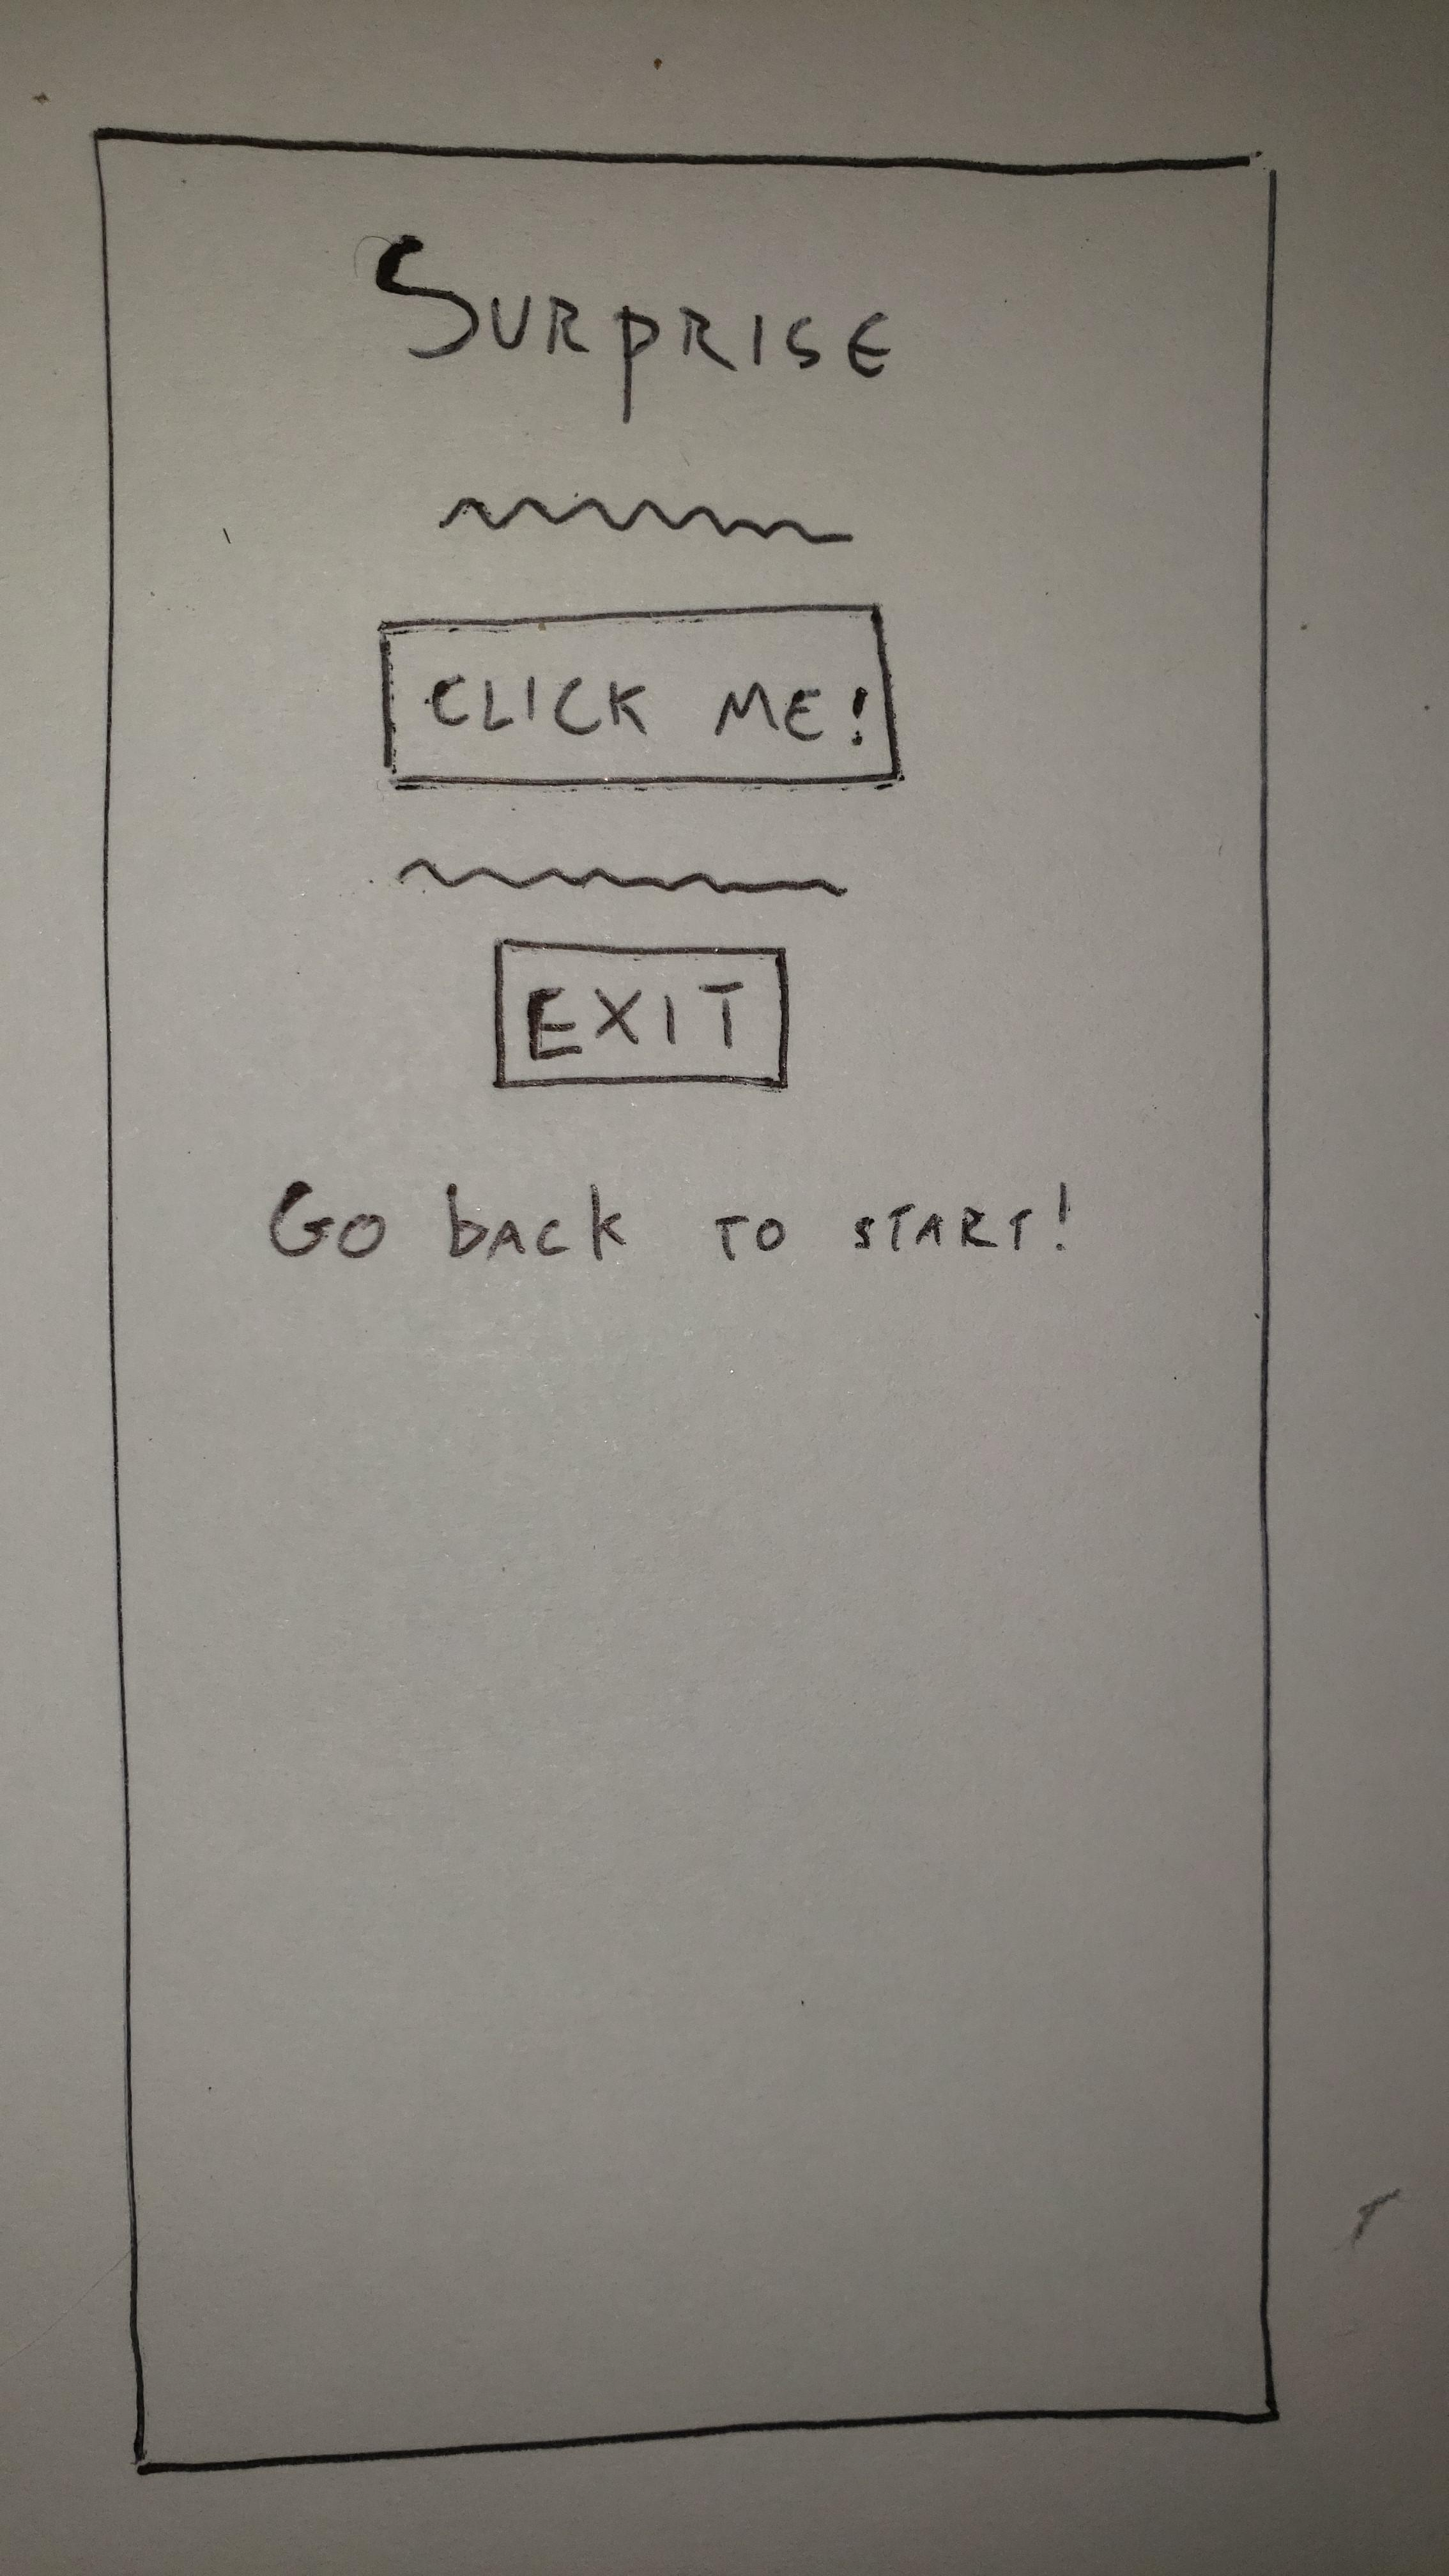Button: (379, 605, 906, 789), (490, 938, 791, 1092)
Label: (372, 234, 892, 423), (267, 1168, 1076, 1265), (433, 494, 855, 548), (396, 853, 855, 902)
Screen: (90, 124, 1277, 2475)
